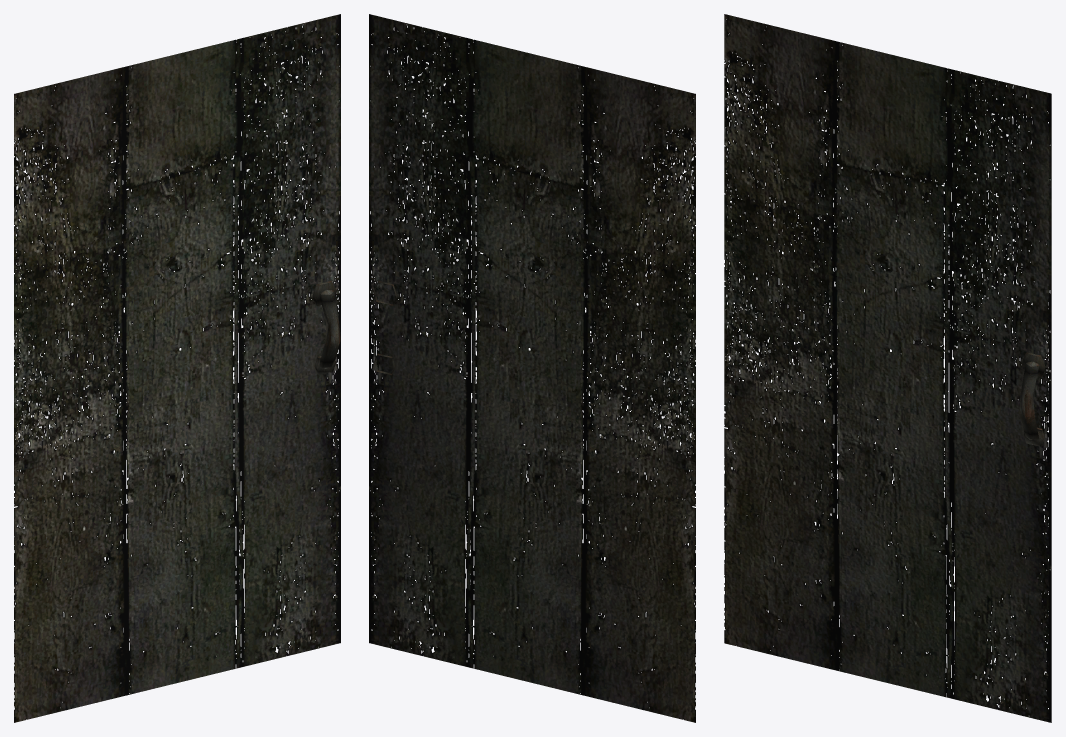
File: ex_de_ship_door.dae
3 views of the same model, side by side, from view 1: azimuth 30°, elevation 25°; view 2: azimuth 150°, elevation 25°; view 3: azimuth 330°, elevation 25° (orthographic).
Parts seen in each view (by area): view 1: nifid_6-matrix, nifid_1-matrix; view 2: nifid_6-matrix; view 3: nifid_6-matrix, nifid_1-matrix.
Part boxes in pixels (x1,y1,x2,y2): nifid_6-matrix: [14, 14, 340, 722]; nifid_1-matrix: [312, 281, 340, 374]; nifid_6-matrix: [369, 14, 695, 722]; nifid_6-matrix: [724, 14, 1051, 722]; nifid_1-matrix: [1019, 352, 1045, 446].
Bounding box in the file's own units: 90.2 × 6.89 × 166.
2 materials, 2 textured.
